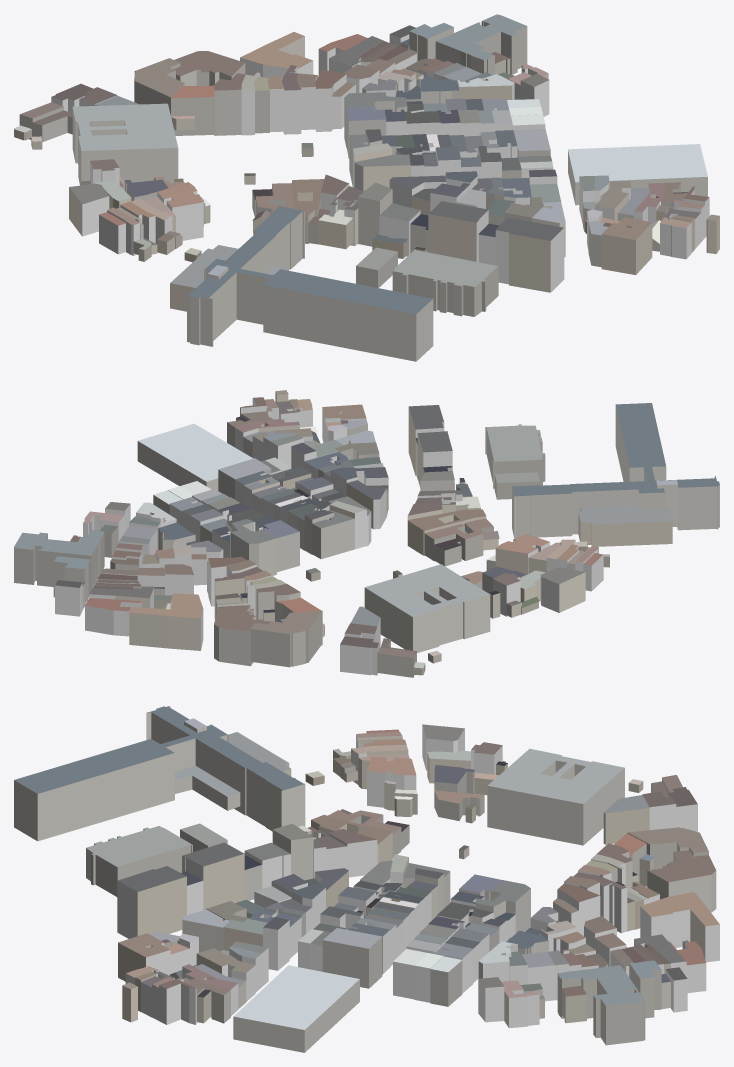
3 views of the same model, one above another, from view 1: azimuth 30°, elevation 25°; view 2: azimuth 150°, elevation 25°; view 3: azimuth 270°, elevation 25° (orthographic). The views are drawn at different scales.
Parts seen in each view (by area): view 1: tuile; view 2: tuile; view 3: tuile.
Boxes of the visible parts, box(x1,y1,x2,y2) form: tuile: box(14, 14, 719, 361); tuile: box(14, 390, 719, 677); tuile: box(14, 706, 719, 1052).
Size of the model in its own units: 298 by 36.49 by 313.
